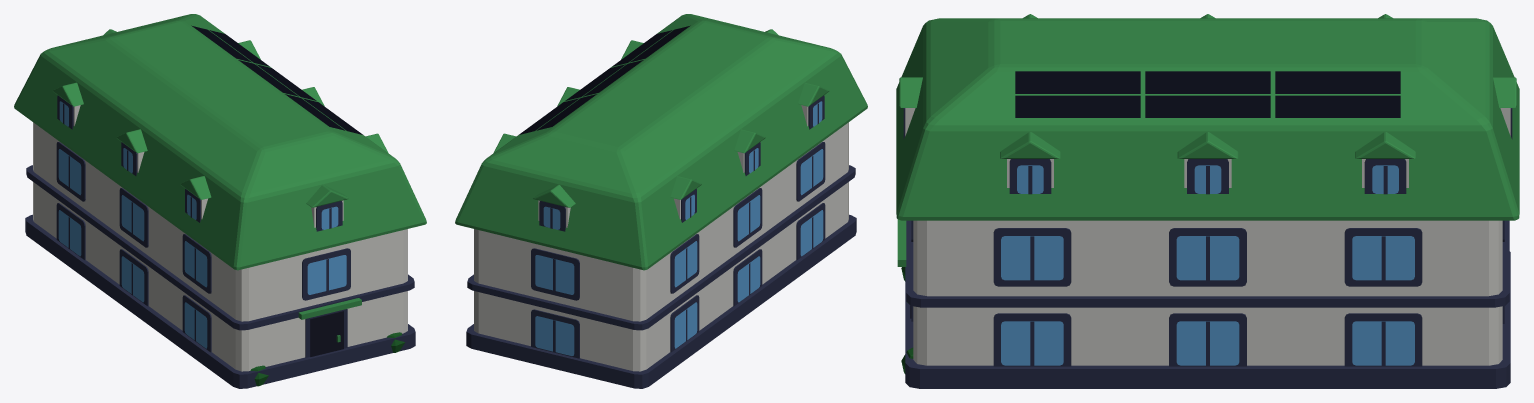
File: house-1x2-2f-mansard-a-solar.glb
3 views of the same model, side by side, from view 1: azimuth 30°, elevation 25°; view 2: azimuth 150°, elevation 25°; view 3: azimuth 270°, elevation 25° (orthographic). The views are drawn at different scales.
Parts seen in each view (by area): view 1: house-1x2-2f-mansard-a-solar; view 2: house-1x2-2f-mansard-a-solar; view 3: house-1x2-2f-mansard-a-solar.
Boxes of the visible parts, left/top/right/bottom form: house-1x2-2f-mansard-a-solar: left=14, top=14, right=426, bottom=388; house-1x2-2f-mansard-a-solar: left=455, top=14, right=867, bottom=388; house-1x2-2f-mansard-a-solar: left=896, top=14, right=1519, bottom=388.
Bounding box in the file's own units: 0.9876 × 1 × 1.99.
1 material, 1 textured.
